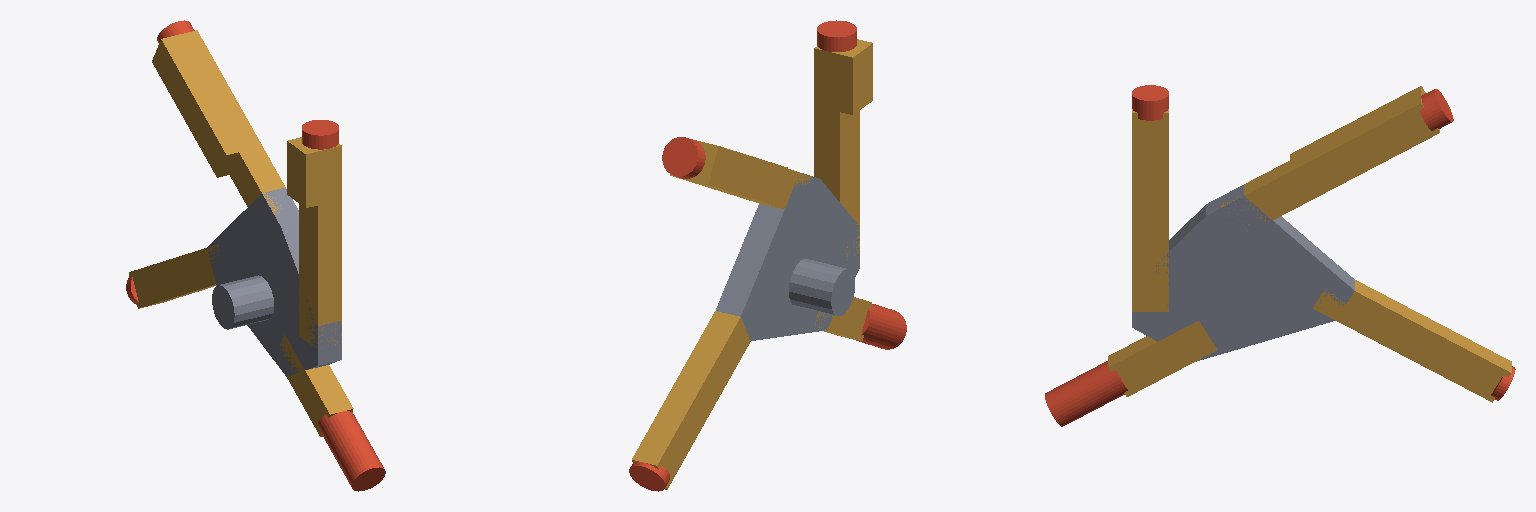
URDF robot description (coarse_s0_038):
<robot name="coarse_s0_038">
  <link name="palm">
    <visual name="palm_palm1">
      <origin xyz="0 0 0" rpy="0 0 0" />
      <geometry>
        <mesh filename="palm_palm1.obj" />
      </geometry>
      <material name="palm_palm1_mat">
        <color rgba="0.55 0.57 0.62 1" />
      </material>
    </visual>
    <collision>
      <origin xyz="0 0 0" rpy="0 0 0" />
      <geometry>
        <mesh filename="palm_palm1.obj" />
      </geometry>
    </collision>
    <visual name="palm_mount2">
      <origin xyz="0 0 0" rpy="0 0 0" />
      <geometry>
        <mesh filename="palm_mount2.obj" />
      </geometry>
      <material name="palm_mount2_mat">
        <color rgba="0.55 0.57 0.62 1" />
      </material>
    </visual>
    <collision>
      <origin xyz="0 0 0" rpy="0 0 0" />
      <geometry>
        <mesh filename="palm_mount2.obj" />
      </geometry>
    </collision>
    <visual name="palm_motor3">
      <origin xyz="0 -0.08 -0.0075" rpy="-1.57079633 -0 1.57079633" />
      <geometry>
        <box size="0.029 0.034 0.02" />
      </geometry>
      <material name="palm_motor3_mat">
        <color rgba="0.15 0.15 0.17 1" />
      </material>
    </visual>
    <collision>
      <origin xyz="0 -0.08 -0.0075" rpy="-1.57079633 -0 1.57079633" />
      <geometry>
        <box size="0.029 0.034 0.02" />
      </geometry>
    </collision>
    <visual name="palm_motor4">
      <origin xyz="0 -0.0335048095 -0.03625" rpy="1.57079633 -1.04719755 -1.57079633" />
      <geometry>
        <box size="0.029 0.034 0.02" />
      </geometry>
      <material name="palm_motor4_mat">
        <color rgba="0.15 0.15 0.17 1" />
      </material>
    </visual>
    <collision>
      <origin xyz="0 -0.0335048095 -0.03625" rpy="1.57079633 -1.04719755 -1.57079633" />
      <geometry>
        <box size="0.029 0.034 0.02" />
      </geometry>
    </collision>
    <visual name="palm_motor5">
      <origin xyz="0 -0.00649519053 0.07625" rpy="-1.57079633 1.04719755 1.57079633" />
      <geometry>
        <box size="0.029 0.034 0.02" />
      </geometry>
      <material name="palm_motor5_mat">
        <color rgba="0.15 0.15 0.17 1" />
      </material>
    </visual>
    <collision>
      <origin xyz="0 -0.00649519053 0.07625" rpy="-1.57079633 1.04719755 1.57079633" />
      <geometry>
        <box size="0.029 0.034 0.02" />
      </geometry>
    </collision>
    <visual name="palm_motor6">
      <origin xyz="0 0.0735048095 0.00375" rpy="1.57079633 1.04719755 -1.57079633" />
      <geometry>
        <box size="0.029 0.034 0.02" />
      </geometry>
      <material name="palm_motor6_mat">
        <color rgba="0.15 0.15 0.17 1" />
      </material>
    </visual>
    <collision>
      <origin xyz="0 0.0735048095 0.00375" rpy="1.57079633 1.04719755 -1.57079633" />
      <geometry>
        <box size="0.029 0.034 0.02" />
      </geometry>
    </collision>
    <inertial>
      <origin xyz="3.15445792e-19 -0.00639216041 0.0124661067" rpy="1.57079633 -0.217173238 1.57079633" />
      <mass value="0.783181399" />
      <inertia ixx="0.000950044838" ixy="0" ixz="0" iyy="0.00166746393" iyz="0" izz="0.00254232335" />
    </inertial>
  </link>
  <link name="f0_link0">
    <visual name="f0_link0_link1">
      <origin xyz="0.04375 0 0" rpy="0 -0 0" />
      <geometry>
        <box size="0.1115 0.024 0.033" />
      </geometry>
      <material name="f0_link0_link1_mat">
        <color rgba="0.80 0.62 0.30 1" />
      </material>
    </visual>
    <collision>
      <origin xyz="0.04375 0 0" rpy="0 -0 0" />
      <geometry>
        <box size="0.1115 0.024 0.033" />
      </geometry>
    </collision>
    <inertial>
      <origin xyz="0.04375 0 0" rpy="0 0 0" />
      <mass value="0.154539" />
      <inertia ixx="2.14422863e-05" ixy="0" ixz="0" iyy="0.000174130038" iyz="0" izz="0.000167523496" />
    </inertial>
  </link>
  <link name="f0_link1">
    <visual name="f0_link1_link1">
      <origin xyz="0.02375 0 0" rpy="0 -0 0" />
      <geometry>
        <box size="0.0715 0.024 0.033" />
      </geometry>
      <material name="f0_link1_link1_mat">
        <color rgba="0.80 0.62 0.30 1" />
      </material>
    </visual>
    <collision>
      <origin xyz="0.02375 0 0" rpy="0 -0 0" />
      <geometry>
        <box size="0.0715 0.024 0.033" />
      </geometry>
    </collision>
    <inertial>
      <origin xyz="0.02375 0 0" rpy="0 0 0" />
      <mass value="0.099099" />
      <inertia ixx="1.37499863e-05" ixy="0" ixz="0" iyy="5.12114728e-05" iyz="0" izz="4.69749906e-05" />
    </inertial>
  </link>
  <link name="f0_link2">
    <visual name="f0_link2_link1">
      <origin xyz="0.014 -0.00625 0" rpy="0 -0 0" />
      <geometry>
        <box size="0.052 0.0365 0.033" />
      </geometry>
      <material name="f0_link2_link1_mat">
        <color rgba="0.80 0.62 0.30 1" />
      </material>
    </visual>
    <collision>
      <origin xyz="0.014 -0.00625 0" rpy="0 -0 0" />
      <geometry>
        <box size="0.052 0.0365 0.033" />
      </geometry>
    </collision>
    <inertial>
      <origin xyz="0.014 -0.00625 0" rpy="0 0 0" />
      <mass value="0.1096095" />
      <inertia ixx="2.21160002e-05" ixy="0" ixz="0" iyy="3.46457361e-05" iyz="0" izz="3.6867612e-05" />
    </inertial>
  </link>
  <link name="f0_link3">
    <visual name="f0_link3_link1">
      <origin xyz="0.014 0 0" rpy="-1.57079633 -0 -1.57079633" />
      <geometry>
        <cylinder radius="0.0165" length="0.019" />
      </geometry>
      <material name="f0_link3_link1_mat">
        <color rgba="0.85 0.35 0.25 1" />
      </material>
    </visual>
    <collision>
      <origin xyz="0.014 0 0" rpy="-1.57079633 -0 -1.57079633" />
      <geometry>
        <cylinder radius="0.0165" length="0.019" />
      </geometry>
    </collision>
    <inertial>
      <origin xyz="0.014 0 0" rpy="0 0 0" />
      <mass value="0.0613676745" />
      <inertia ixx="7.45718278e-06" ixy="0" ixz="0" iyy="1.32201625e-05" iyz="0" izz="1.32201625e-05" />
    </inertial>
  </link>
  <link name="f1_link0">
    <visual name="f1_link0_link1">
      <origin xyz="0.03375 0 -8.67361738e-18" rpy="0 -3.98552134e-18 0" />
      <geometry>
        <box size="0.0915 0.024 0.033" />
      </geometry>
      <material name="f1_link0_link1_mat">
        <color rgba="0.80 0.62 0.30 1" />
      </material>
    </visual>
    <collision>
      <origin xyz="0.03375 0 -8.67361738e-18" rpy="0 -3.98552134e-18 0" />
      <geometry>
        <box size="0.0915 0.024 0.033" />
      </geometry>
    </collision>
    <inertial>
      <origin xyz="0.03375 0 0" rpy="0 0 0" />
      <mass value="0.126819" />
      <inertia ixx="1.75961363e-05" ixy="0" ixz="0" iyy="9.99888553e-05" iyz="0" izz="9.45673431e-05" />
    </inertial>
  </link>
  <link name="f1_link1">
    <visual name="f1_link1_link1">
      <origin xyz="0.039 0 -3.46944695e-18" rpy="-1.57079633 -0 -1.57079633" />
      <geometry>
        <cylinder radius="0.0165" length="0.069" />
      </geometry>
      <material name="f1_link1_link1_mat">
        <color rgba="0.85 0.35 0.25 1" />
      </material>
    </visual>
    <collision>
      <origin xyz="0.039 0 -3.46944695e-18" rpy="-1.57079633 -0 -1.57079633" />
      <geometry>
        <cylinder radius="0.0165" length="0.069" />
      </geometry>
    </collision>
    <inertial>
      <origin xyz="0.039 0 0" rpy="0 0 0" />
      <mass value="0.136206302" />
      <inertia ixx="1.76445909e-05" ixy="0" ixz="0" iyy="0.000104842911" iyz="0" izz="0.000104842911" />
    </inertial>
  </link>
  <link name="f2_link0">
    <visual name="f2_link0_link1">
      <origin xyz="0.03375 0 0" rpy="0 -7.03853194e-17 0" />
      <geometry>
        <box size="0.0915 0.024 0.033" />
      </geometry>
      <material name="f2_link0_link1_mat">
        <color rgba="0.80 0.62 0.30 1" />
      </material>
    </visual>
    <collision>
      <origin xyz="0.03375 0 0" rpy="0 -7.03853194e-17 0" />
      <geometry>
        <box size="0.0915 0.024 0.033" />
      </geometry>
    </collision>
    <inertial>
      <origin xyz="0.03375 0 0" rpy="0 0 0" />
      <mass value="0.126819" />
      <inertia ixx="1.75961363e-05" ixy="0" ixz="0" iyy="9.99888553e-05" iyz="0" izz="9.45673431e-05" />
    </inertial>
  </link>
  <link name="f2_link1">
    <visual name="f2_link1_link1">
      <origin xyz="0.014 -0.00625 1.38777878e-17" rpy="0 -7.03853194e-17 0" />
      <geometry>
        <box size="0.052 0.0365 0.033" />
      </geometry>
      <material name="f2_link1_link1_mat">
        <color rgba="0.80 0.62 0.30 1" />
      </material>
    </visual>
    <collision>
      <origin xyz="0.014 -0.00625 1.38777878e-17" rpy="0 -7.03853194e-17 0" />
      <geometry>
        <box size="0.052 0.0365 0.033" />
      </geometry>
    </collision>
    <inertial>
      <origin xyz="0.014 -0.00625 0" rpy="0 0 0" />
      <mass value="0.1096095" />
      <inertia ixx="2.21160002e-05" ixy="0" ixz="0" iyy="3.46457361e-05" iyz="0" izz="3.6867612e-05" />
    </inertial>
  </link>
  <link name="f2_link2">
    <visual name="f2_link2_link1">
      <origin xyz="0.019 -0.00625 0" rpy="0 -7.03853194e-17 0" />
      <geometry>
        <box size="0.062 0.0365 0.033" />
      </geometry>
      <material name="f2_link2_link1_mat">
        <color rgba="0.80 0.62 0.30 1" />
      </material>
    </visual>
    <collision>
      <origin xyz="0.019 -0.00625 0" rpy="0 -7.03853194e-17 0" />
      <geometry>
        <box size="0.062 0.0365 0.033" />
      </geometry>
    </collision>
    <inertial>
      <origin xyz="0.019 -0.00625 0" rpy="0 0 0" />
      <mass value="0.13068825" />
      <inertia ixx="2.63690771e-05" ixy="0" ixz="0" iyy="5.37237614e-05" iyz="0" izz="5.63729212e-05" />
    </inertial>
  </link>
  <link name="f2_link3">
    <visual name="f2_link3_link1">
      <origin xyz="0.019 -0.00625 0" rpy="0 -7.03853194e-17 0" />
      <geometry>
        <box size="0.062 0.0365 0.033" />
      </geometry>
      <material name="f2_link3_link1_mat">
        <color rgba="0.80 0.62 0.30 1" />
      </material>
    </visual>
    <collision>
      <origin xyz="0.019 -0.00625 0" rpy="0 -7.03853194e-17 0" />
      <geometry>
        <box size="0.062 0.0365 0.033" />
      </geometry>
    </collision>
    <inertial>
      <origin xyz="0.019 -0.00625 0" rpy="0 0 0" />
      <mass value="0.13068825" />
      <inertia ixx="2.63690771e-05" ixy="0" ixz="0" iyy="5.37237614e-05" iyz="0" izz="5.63729212e-05" />
    </inertial>
  </link>
  <link name="f2_link4">
    <visual name="f2_link4_link1">
      <origin xyz="0.014 0 2.08166817e-17" rpy="-1.57079633 -0 -1.57079633" />
      <geometry>
        <cylinder radius="0.0165" length="0.019" />
      </geometry>
      <material name="f2_link4_link1_mat">
        <color rgba="0.85 0.35 0.25 1" />
      </material>
    </visual>
    <collision>
      <origin xyz="0.014 0 2.08166817e-17" rpy="-1.57079633 -0 -1.57079633" />
      <geometry>
        <cylinder radius="0.0165" length="0.019" />
      </geometry>
    </collision>
    <inertial>
      <origin xyz="0.014 0 0" rpy="0 0 0" />
      <mass value="0.0613676745" />
      <inertia ixx="7.45718278e-06" ixy="0" ixz="0" iyy="1.32201625e-05" iyz="0" izz="1.32201625e-05" />
    </inertial>
  </link>
  <link name="f3_link0">
    <visual name="f3_link0_link1">
      <origin xyz="0.03375 0 0" rpy="0 2.57628149e-17 0" />
      <geometry>
        <box size="0.0915 0.024 0.033" />
      </geometry>
      <material name="f3_link0_link1_mat">
        <color rgba="0.80 0.62 0.30 1" />
      </material>
    </visual>
    <collision>
      <origin xyz="0.03375 0 0" rpy="0 2.57628149e-17 0" />
      <geometry>
        <box size="0.0915 0.024 0.033" />
      </geometry>
    </collision>
    <inertial>
      <origin xyz="0.03375 0 0" rpy="0 0 0" />
      <mass value="0.126819" />
      <inertia ixx="1.75961363e-05" ixy="0" ixz="0" iyy="9.99888553e-05" iyz="0" izz="9.45673431e-05" />
    </inertial>
  </link>
  <link name="f3_link1">
    <visual name="f3_link1_link1">
      <origin xyz="0.04375 0 -1.38777878e-17" rpy="0 2.57628149e-17 0" />
      <geometry>
        <box size="0.1115 0.024 0.033" />
      </geometry>
      <material name="f3_link1_link1_mat">
        <color rgba="0.80 0.62 0.30 1" />
      </material>
    </visual>
    <collision>
      <origin xyz="0.04375 0 -1.38777878e-17" rpy="0 2.57628149e-17 0" />
      <geometry>
        <box size="0.1115 0.024 0.033" />
      </geometry>
    </collision>
    <inertial>
      <origin xyz="0.04375 0 0" rpy="0 0 0" />
      <mass value="0.154539" />
      <inertia ixx="2.14422863e-05" ixy="0" ixz="0" iyy="0.000174130038" iyz="0" izz="0.000167523496" />
    </inertial>
  </link>
  <link name="f3_link2">
    <visual name="f3_link2_link1">
      <origin xyz="0.009 0 -3.46944695e-18" rpy="-1.57079633 -0 -1.57079633" />
      <geometry>
        <cylinder radius="0.0165" length="0.009" />
      </geometry>
      <material name="f3_link2_link1_mat">
        <color rgba="0.85 0.35 0.25 1" />
      </material>
    </visual>
    <collision>
      <origin xyz="0.009 0 -3.46944695e-18" rpy="-1.57079633 -0 -1.57079633" />
      <geometry>
        <cylinder radius="0.0165" length="0.009" />
      </geometry>
    </collision>
    <inertial>
      <origin xyz="0.009 0 0" rpy="0 0 0" />
      <mass value="0.046399949" />
      <inertia ixx="5.41970115e-06" ixy="0" ixz="0" iyy="7.09430898e-06" iyz="0" izz="7.09430898e-06" />
    </inertial>
  </link>
  <joint name="f0_j0" type="revolute">
    <parent link="palm" />
    <child link="f0_link0" />
    <origin xyz="0 -0.08 0" rpy="-1.57079633 -1.57079633 0" />
    <axis xyz="0 0 1" />
    <limit effort="0.5" lower="-0.523598776" upper="1.57079633" velocity="5" />
    <dynamics damping="0.0775033" friction="0" />
  </joint>
  <joint name="f0_j1" type="revolute">
    <parent link="f0_link0" />
    <child link="f0_link1" />
    <origin xyz="0.09 0 0" rpy="0 0 0" />
    <axis xyz="0 0 1" />
    <limit effort="0.5" lower="-0.523598776" upper="1.57079633" velocity="5" />
    <dynamics damping="0.0775033" friction="0" />
  </joint>
  <joint name="f0_j2" type="revolute">
    <parent link="f0_link1" />
    <child link="f0_link2" />
    <origin xyz="0.05 0 0" rpy="0 0 0" />
    <axis xyz="0 0 1" />
    <limit effort="0.5" lower="-0.523598776" upper="1.57079633" velocity="5" />
    <dynamics damping="0.0775033" friction="0" />
  </joint>
  <joint name="f0_j3" type="revolute">
    <parent link="f0_link2" />
    <child link="f0_link3" />
    <origin xyz="0.03 0 0" rpy="0 0 0" />
    <axis xyz="0 0 1" />
    <limit effort="0.5" lower="-0.523598776" upper="1.57079633" velocity="5" />
    <dynamics damping="0.0775033" friction="0" />
  </joint>
  <joint name="f1_j0" type="revolute">
    <parent link="palm" />
    <child link="f1_link0" />
    <origin xyz="0 -0.04 -0.04" rpy="0 0.523598776 -1.57079633" />
    <axis xyz="0 0 1" />
    <limit effort="0.5" lower="-0.523598776" upper="1.57079633" velocity="5" />
    <dynamics damping="0.0775033" friction="0" />
  </joint>
  <joint name="f1_j1" type="revolute">
    <parent link="f1_link0" />
    <child link="f1_link1" />
    <origin xyz="0.07 0 0" rpy="0 0 0" />
    <axis xyz="0 0 1" />
    <limit effort="0.5" lower="-0.523598776" upper="1.57079633" velocity="5" />
    <dynamics damping="0.0775033" friction="0" />
  </joint>
  <joint name="f2_j0" type="revolute">
    <parent link="palm" />
    <child link="f2_link0" />
    <origin xyz="0 0 0.08" rpy="-3.14159265 -0.523598776 1.57079633" />
    <axis xyz="0 0 1" />
    <limit effort="0.5" lower="-0.523598776" upper="1.57079633" velocity="5" />
    <dynamics damping="0.0775033" friction="0" />
  </joint>
  <joint name="f2_j1" type="revolute">
    <parent link="f2_link0" />
    <child link="f2_link1" />
    <origin xyz="0.07 0 0" rpy="0 0 0" />
    <axis xyz="0 0 1" />
    <limit effort="0.5" lower="-0.523598776" upper="1.57079633" velocity="5" />
    <dynamics damping="0.0775033" friction="0" />
  </joint>
  <joint name="f2_j2" type="revolute">
    <parent link="f2_link1" />
    <child link="f2_link2" />
    <origin xyz="0.03 0 0" rpy="0 0 0" />
    <axis xyz="0 0 1" />
    <limit effort="0.5" lower="-0.523598776" upper="1.57079633" velocity="5" />
    <dynamics damping="0.0775033" friction="0" />
  </joint>
  <joint name="f2_j3" type="revolute">
    <parent link="f2_link2" />
    <child link="f2_link3" />
    <origin xyz="0.04 0 0" rpy="0 0 0" />
    <axis xyz="0 0 1" />
    <limit effort="0.5" lower="-0.523598776" upper="1.57079633" velocity="5" />
    <dynamics damping="0.0775033" friction="0" />
  </joint>
  <joint name="f2_j4" type="revolute">
    <parent link="f2_link3" />
    <child link="f2_link4" />
    <origin xyz="0.04 0 0" rpy="0 0 0" />
    <axis xyz="0 0 1" />
    <limit effort="0.5" lower="-0.523598776" upper="1.57079633" velocity="5" />
    <dynamics damping="0.0775033" friction="0" />
  </joint>
  <joint name="f3_j0" type="revolute">
    <parent link="palm" />
    <child link="f3_link0" />
    <origin xyz="0 0.08 0" rpy="3.14159265 0.523598776 1.57079633" />
    <axis xyz="0 0 1" />
    <limit effort="0.5" lower="-0.523598776" upper="1.57079633" velocity="5" />
    <dynamics damping="0.0775033" friction="0" />
  </joint>
  <joint name="f3_j1" type="revolute">
    <parent link="f3_link0" />
    <child link="f3_link1" />
    <origin xyz="0.07 0 0" rpy="0 0 0" />
    <axis xyz="0 0 1" />
    <limit effort="0.5" lower="-0.523598776" upper="1.57079633" velocity="5" />
    <dynamics damping="0.0775033" friction="0" />
  </joint>
  <joint name="f3_j2" type="revolute">
    <parent link="f3_link1" />
    <child link="f3_link2" />
    <origin xyz="0.09 0 0" rpy="0 0 0" />
    <axis xyz="0 0 1" />
    <limit effort="0.5" lower="-0.523598776" upper="1.57079633" velocity="5" />
    <dynamics damping="0.0775033" friction="0" />
  </joint>
</robot>

--- What the picture shows (computed from the rendered views, not written in the file) ---
3 views of the same robot in one strip: view 1: azimuth 30°, elevation 25°; view 2: azimuth 150°, elevation 25°; view 3: azimuth 270°, elevation 25° (orthographic).
Robot: coarse_s0_038 — 15 links, 14 joints (14 revolute); root link palm; default pose: all joints at 0.
Links seen in each view (by area): view 1: palm, f0_link0, f2_link2, f1_link1, f0_link2, f1_link0, f2_link3, f2_link1, f0_link1, f2_link0, f3_link1, f3_link0 (+1 smaller); view 2: palm, f3_link1, f0_link2, f3_link0, f0_link1, f0_link0, f2_link3, f1_link1, f2_link4, f2_link1, f1_link0, f0_link3 (+3 smaller); view 3: palm, f3_link1, f0_link0, f1_link0, f3_link0, f2_link0, f1_link1, f2_link2, f2_link3, f0_link1, f2_link1, f0_link2 (+2 smaller).
Link boxes in pixels (<box>): palm: <box>208,188,341,376</box>; f0_link0: <box>299,223,341,347</box>; f2_link2: <box>172,66,246,150</box>; f1_link1: <box>318,411,385,491</box>; f0_link2: <box>287,137,341,207</box>; f1_link0: <box>279,334,353,436</box>; f2_link3: <box>152,30,219,103</box>; f2_link1: <box>192,106,262,177</box>; f0_link1: <box>299,177,341,256</box>; f2_link0: <box>230,147,285,213</box>; f3_link1: <box>129,256,210,308</box>; f3_link0: <box>173,244,218,294</box>; palm: <box>716,173,859,340</box>; f3_link1: <box>632,355,725,489</box>; f0_link2: <box>814,39,872,114</box>; f3_link0: <box>689,311,750,398</box>; f0_link1: <box>814,82,859,166</box>; f0_link0: <box>814,129,859,259</box>; f2_link3: <box>670,140,750,194</box>; f1_link1: <box>856,304,906,349</box>; f2_link4: <box>662,137,705,178</box>; f2_link1: <box>718,159,787,206</box>; f1_link0: <box>815,297,871,340</box>; f0_link3: <box>817,20,856,51</box>; palm: <box>1132,185,1354,361</box>; f3_link1: <box>1385,304,1511,402</box>; f0_link0: <box>1132,197,1168,311</box>; f1_link0: <box>1108,321,1216,396</box>; f3_link0: <box>1313,280,1421,354</box>; f2_link0: <box>1221,149,1329,230</box>; f1_link1: <box>1045,361,1127,426</box>; f2_link2: <box>1320,107,1398,184</box>; f2_link3: <box>1361,86,1439,163</box>; f0_link1: <box>1132,145,1168,218</box>; f2_link1: <box>1290,139,1360,200</box>; f0_link2: <box>1132,109,1168,166</box>.
Size in the robot's own frame: 0.0685 by 0.411 by 0.3221 metres.
2 mesh visuals loaded from 2 distinct referenced files (2 OBJ).
